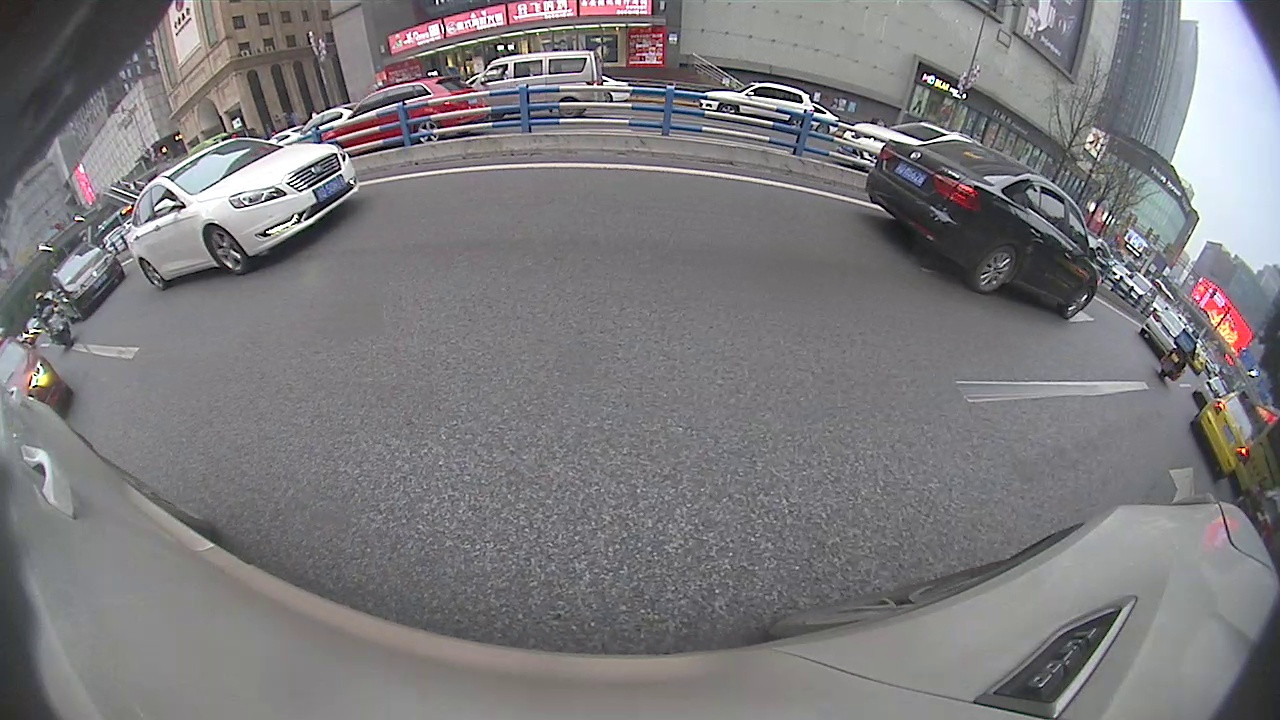car: (866, 139, 1100, 320), (127, 135, 361, 292)
front: (207, 227, 248, 276), (1062, 284, 1096, 319)
rear: (970, 244, 1019, 296), (412, 116, 443, 142), (140, 258, 163, 289)
